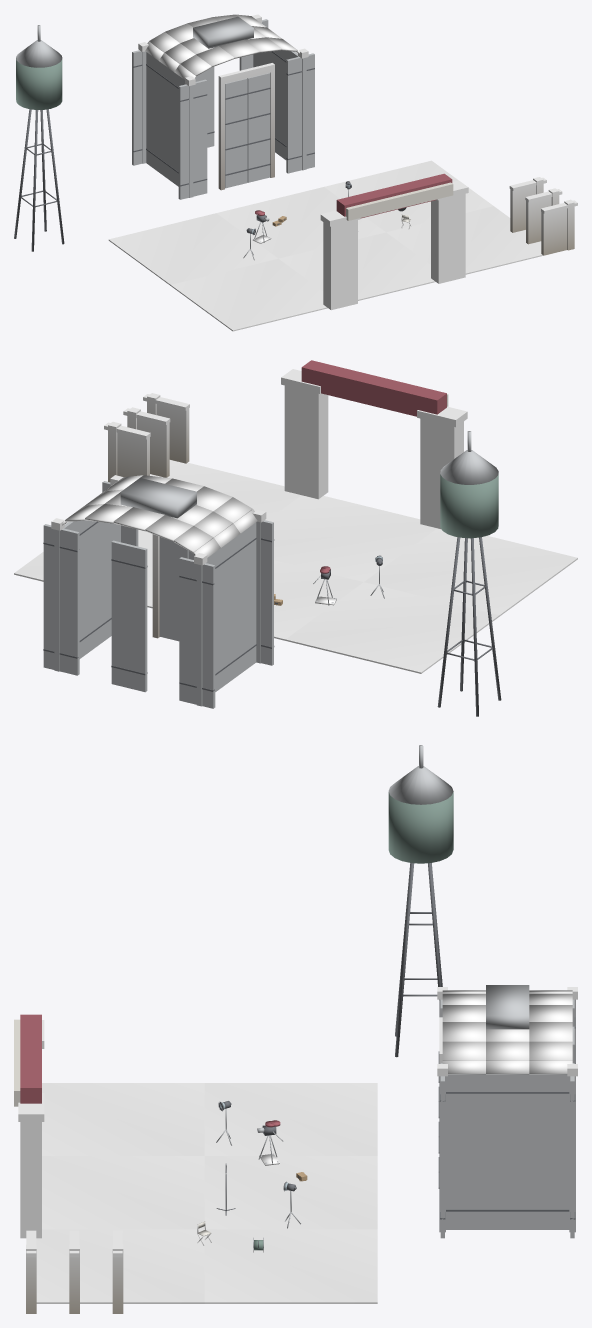
Rendered from studio_hero_set.glb.
The picture shows the model from 3 angles, top to bottom: view 1: azimuth 30°, elevation 25°; view 2: azimuth 150°, elevation 25°; view 3: azimuth 270°, elevation 25°; orthographic projection. The views are drawn at different scales.
Parts seen in each view (by area): view 1: Arch_M11_MarqueeGate, Arch_M14_GroundTile, Arch_M14_GroundTile.001, Arch_M02_ElephantDoor, Arch_M14_GroundTile.002, Arch_M13_WaterTower, Arch_M14_GroundTile.003, Arch_M14_GroundTile.005, Arch_M14_GroundTile.004, Arch_M01_StageWall, Arch_M01_StageWall.001, Arch_M03_BarrelRoof.001 (+14 smaller); view 2: Arch_M11_MarqueeGate, Arch_M14_GroundTile, Arch_M14_GroundTile.001, Arch_M14_GroundTile.003, Arch_M13_WaterTower, Arch_M01_StageWall.008, Arch_M01_StageWall.010, Arch_M01_StageWall.009, Arch_M14_GroundTile.002, Arch_M03_BarrelRoof.001, Arch_M03_BarrelRoof.002, Arch_M14_GroundTile.005 (+16 smaller); view 3: Arch_M14_GroundTile.004, Arch_M14_GroundTile.002, Arch_M14_GroundTile, Arch_M14_GroundTile.003, Arch_M14_GroundTile.001, Arch_M14_GroundTile.005, Arch_M13_WaterTower, Arch_M01_StageWall.005, Arch_M01_StageWall.007, Arch_M01_StageWall.003, Arch_M11_MarqueeGate, Arch_M03_BarrelRoof.001 (+8 smaller).
Part boxes in pixels (x1,y1,x2,y2): Arch_M11_MarqueeGate: [320, 173, 468, 310]; Arch_M14_GroundTile: [108, 213, 277, 285]; Arch_M14_GroundTile.001: [170, 258, 327, 331]; Arch_M02_ElephantDoor: [218, 63, 274, 190]; Arch_M14_GroundTile.002: [216, 187, 385, 258]; Arch_M13_WaterTower: [14, 25, 64, 251]; Arch_M14_GroundTile.003: [279, 232, 435, 300]; Arch_M14_GroundTile.005: [386, 206, 543, 274]; Arch_M14_GroundTile.004: [324, 160, 493, 232]; Arch_M01_StageWall: [178, 79, 207, 199]; Arch_M01_StageWall.001: [286, 53, 314, 173]; Arch_M03_BarrelRoof.001: [159, 16, 282, 71]; Arch_M11_MarqueeGate: [281, 360, 467, 529]; Arch_M14_GroundTile: [285, 582, 499, 673]; Arch_M14_GroundTile.001: [364, 528, 577, 616]; Arch_M14_GroundTile.003: [267, 495, 436, 581]; Arch_M13_WaterTower: [437, 431, 501, 716]; Arch_M01_StageWall.008: [111, 540, 147, 692]; Arch_M01_StageWall.010: [43, 524, 79, 675]; Arch_M01_StageWall.009: [179, 557, 215, 708]; Arch_M14_GroundTile.002: [149, 560, 363, 640]; Arch_M03_BarrelRoof.001: [84, 478, 240, 547]; Arch_M03_BarrelRoof.002: [62, 504, 220, 557]; Arch_M14_GroundTile.005: [150, 460, 301, 520]; Arch_M14_GroundTile.004: [204, 1229, 377, 1303]; Arch_M14_GroundTile.002: [204, 1156, 377, 1229]; Arch_M14_GroundTile: [204, 1083, 377, 1155]; Arch_M14_GroundTile.003: [42, 1156, 204, 1229]; Arch_M14_GroundTile.001: [42, 1083, 204, 1155]; Arch_M14_GroundTile.005: [36, 1229, 204, 1303]; Arch_M13_WaterTower: [388, 745, 453, 1057]; Arch_M01_StageWall.005: [486, 1074, 529, 1229]; Arch_M01_StageWall.007: [529, 1074, 569, 1229]; Arch_M01_StageWall.003: [446, 1074, 485, 1229]; Arch_M11_MarqueeGate: [14, 1014, 44, 1238]; Arch_M03_BarrelRoof.001: [486, 985, 529, 1074].
Bounding box in the file's own units: 31 × 15.38 × 26.05.
